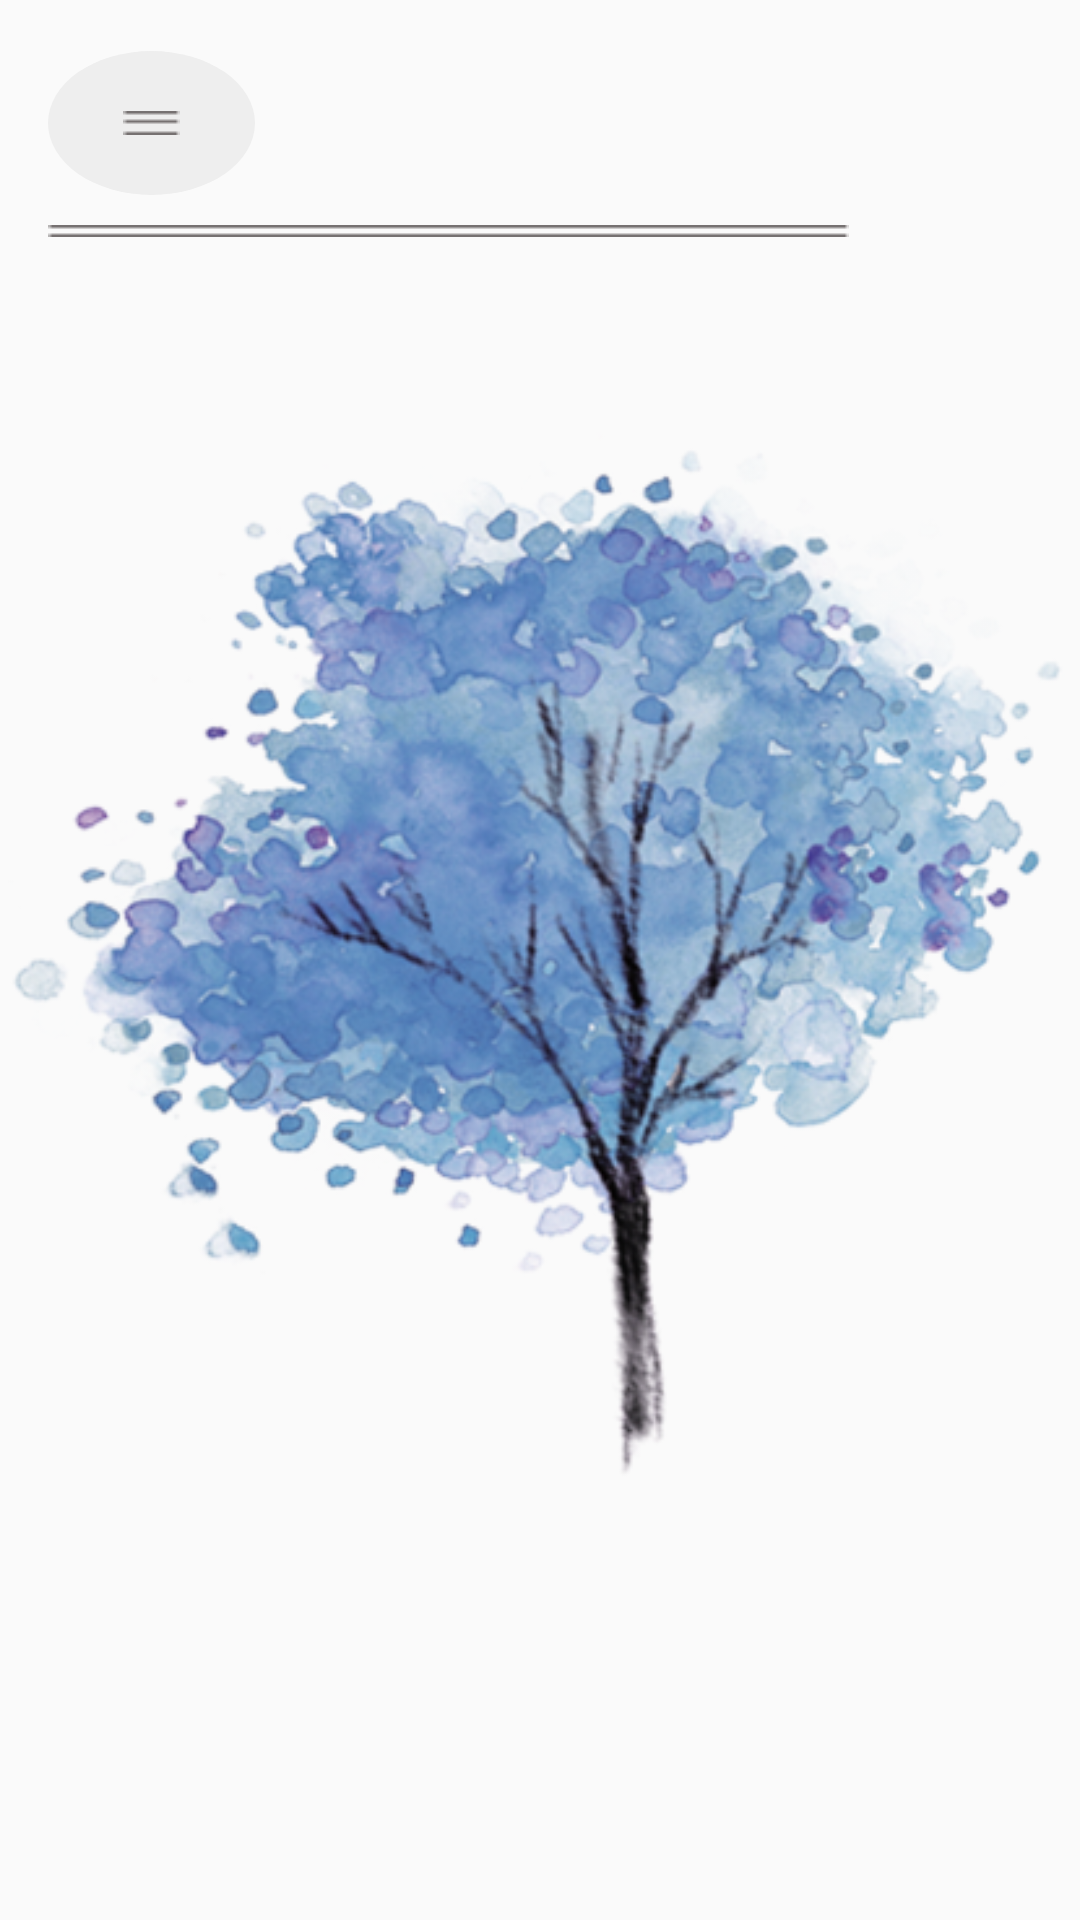

Icon bounding boxes for this 1080w x 1920h phone screenshot, format (x1, y1, x2, y2):
second view menu: (123, 111, 180, 135)
